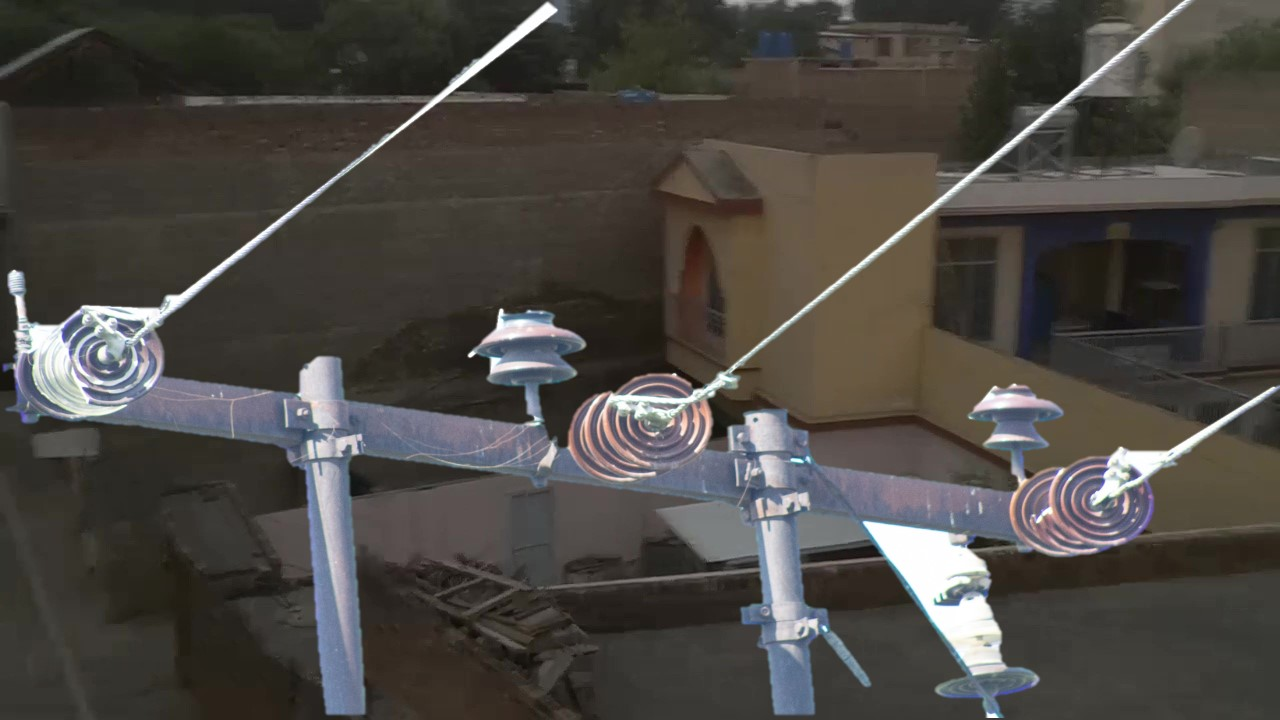defect_disc: (58, 292, 171, 409)
insulator_disc: (600, 362, 715, 472), (1048, 448, 1159, 549)
